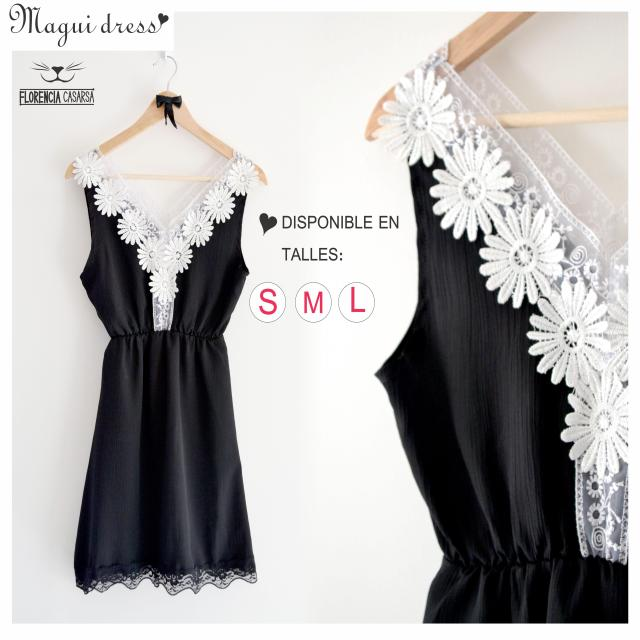Dress: (62, 149, 261, 602)
